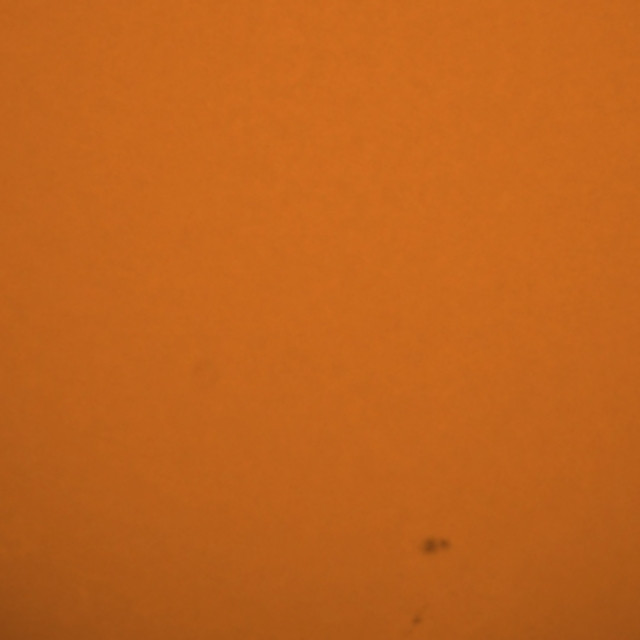sunspot: (418, 534, 452, 560), (409, 612, 426, 630)
